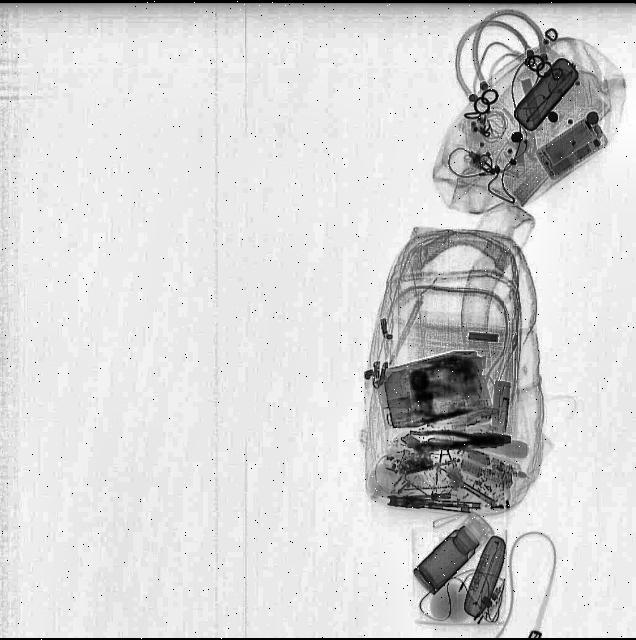Pliers: (409, 426, 511, 449)
